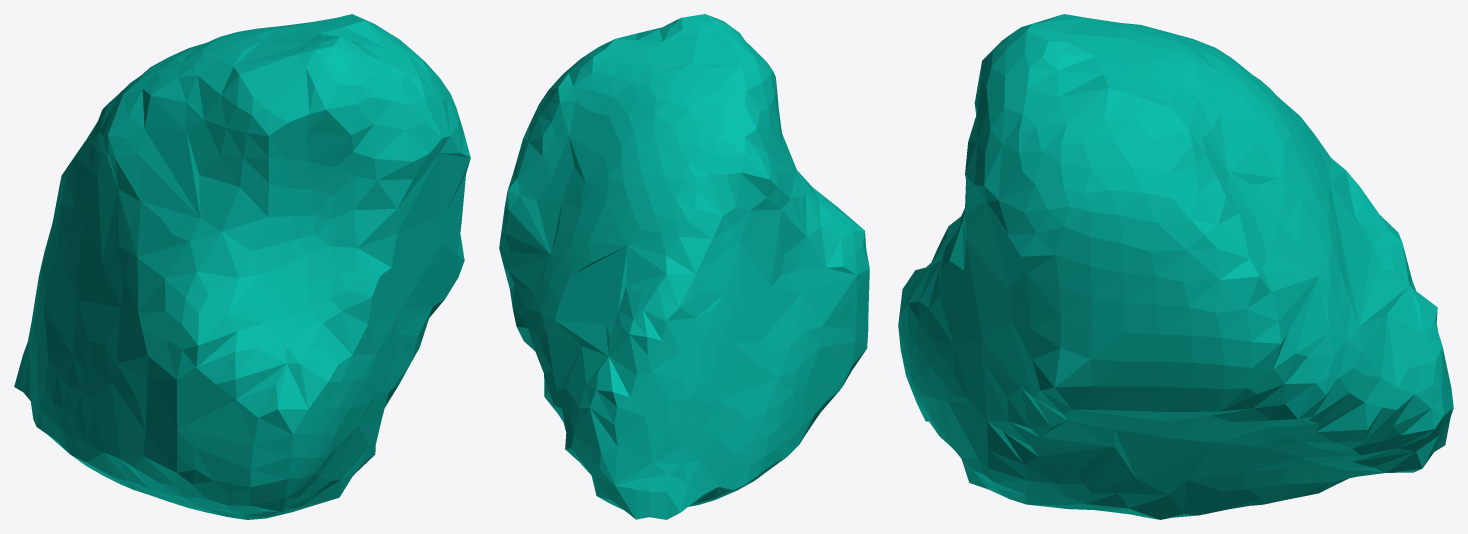
The model's file is Model_10180_LH__Posterior_cortical_amygdaloid_nucleus_(PCo).obj.
3 views of the same model, side by side, from view 1: azimuth 30°, elevation 25°; view 2: azimuth 150°, elevation 25°; view 3: azimuth 270°, elevation 25° (orthographic). The views are drawn at different scales.
Size of the model in its own units: 1.22 by 1.66 by 1.62.
